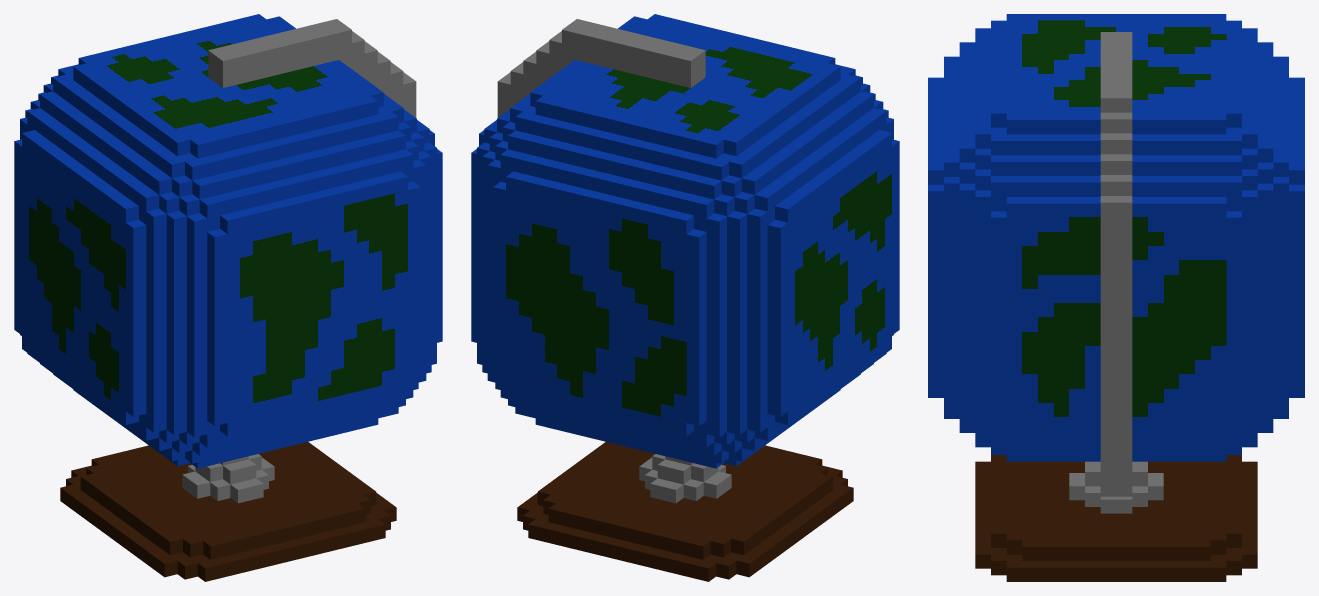
The model's file is Globe Final.fbx.
3 renders of one model, left to right at view 1: azimuth 30°, elevation 25°; view 2: azimuth 150°, elevation 25°; view 3: azimuth 270°, elevation 25°, orthographic. The views are drawn at different scales.
Parts seen in each view (by area): view 1: Polygon; view 2: Polygon; view 3: Polygon.
Part boxes in pixels (x1,y1,x2,y2): Polygon: (14, 14, 442, 581); Polygon: (471, 14, 899, 581); Polygon: (928, 14, 1304, 581).
Bounding box in the file's own units: 2.6 × 3.4 × 2.4.
1 material, 1 textured.
